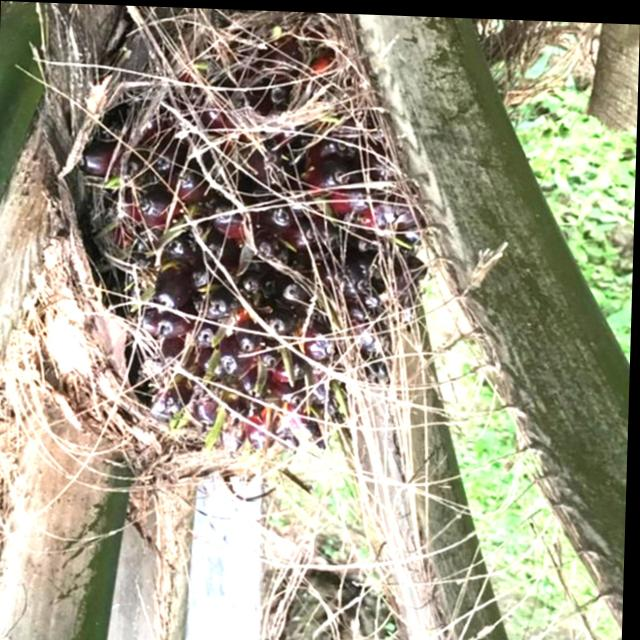ripe: (52, 52, 424, 486)
